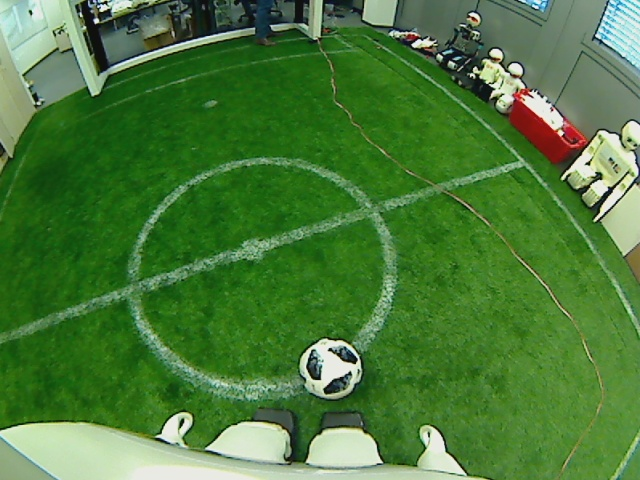ball: (296, 336, 363, 399)
